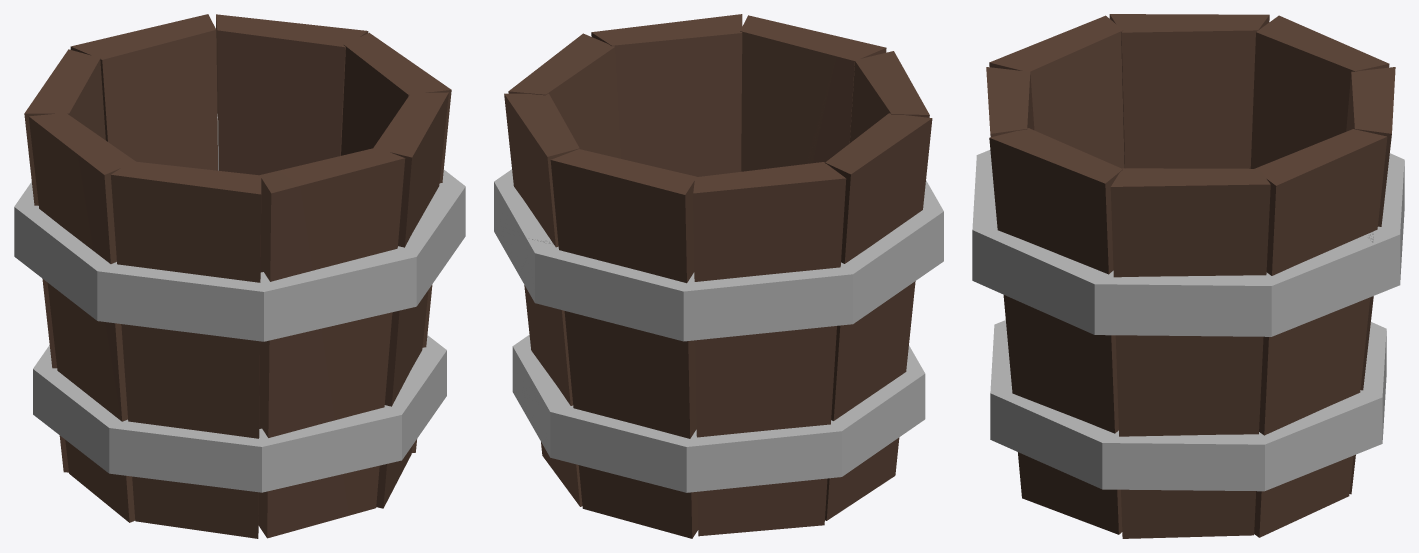
Rendered from TubCrushed.fbx.
The picture shows the model from 3 angles, left to right: view 1: azimuth 30°, elevation 25°; view 2: azimuth 150°, elevation 25°; view 3: azimuth 270°, elevation 25°; orthographic projection.
Parts seen in each view (by area): view 1: polySurface189.002, polySurface182.002, polySurface184.002, polySurface187.002, polySurface186.002, polySurface188.002, polySurface181.002, polySurface185.002; view 2: polySurface189.002, polySurface181.002, polySurface186.002, polySurface183.002, polySurface184.002, polySurface187.002, polySurface188.002, polySurface182.002, polySurface185.002; view 3: polySurface189.002, polySurface185.002, polySurface182.002, polySurface181.002, polySurface187.002, polySurface188.002, polySurface184.002.
Part boxes in pixels (x1,y1,x2,y2): polySurface189.002: (28,14,451,538); polySurface182.002: (66,335,446,492); polySurface184.002: (279,147,405,515); polySurface187.002: (111,161,261,380); polySurface186.002: (14,182,216,328); polySurface188.002: (78,145,135,421); polySurface181.002: (24,49,105,205); polySurface185.002: (415,169,465,256); polySurface189.002: (504,14,905,536); polySurface181.002: (693,162,846,342); polySurface186.002: (690,180,943,333); polySurface183.002: (572,340,698,538); polySurface184.002: (740,15,856,171); polySurface187.002: (850,51,929,142); polySurface188.002: (867,113,932,371); polySurface182.002: (868,345,925,451); polySurface185.002: (494,169,553,275); polySurface189.002: (972,14,1404,538); polySurface185.002: (1031,231,1373,336); polySurface182.002: (990,320,1203,490); polySurface181.002: (1250,15,1389,168); polySurface187.002: (989,15,1124,166); polySurface188.002: (1109,14,1167,168); polySurface184.002: (987,81,1032,137).
Bounding box in the file's own units: 57.98 × 54.41 × 57.98.
